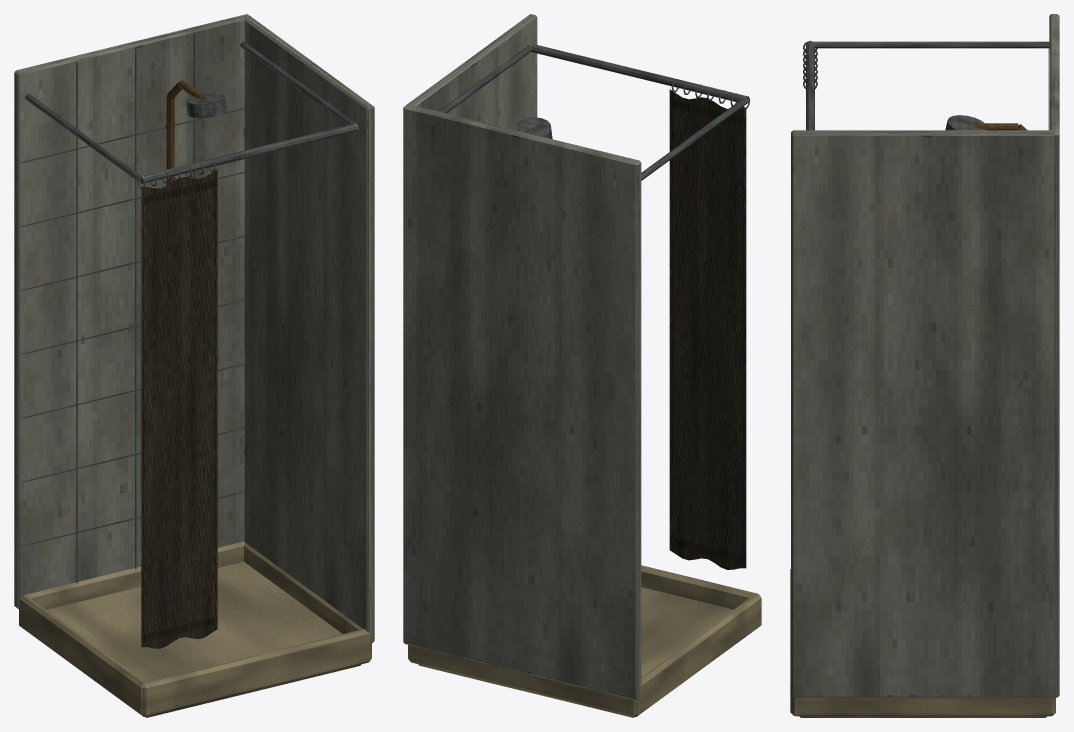
The model's file is level_bath_shower_worn.glb.
The picture shows the model from 3 angles, left to right: view 1: azimuth 30°, elevation 25°; view 2: azimuth 150°, elevation 25°; view 3: azimuth 270°, elevation 25°; orthographic projection. The views are drawn at different scales.
Parts seen in each view (by area): view 1: level_bath_shower_worn; view 2: level_bath_shower_worn; view 3: level_bath_shower_worn.
Part boxes in pixels (box(x1,y1,x2,y2)): level_bath_shower_worn: box(14, 14, 374, 717); level_bath_shower_worn: box(403, 14, 761, 717); level_bath_shower_worn: box(790, 14, 1059, 717).
Bounding box in the file's own units: 0.9615 × 2.19 × 0.907.
Materials: 5 (5 with a texture image).
